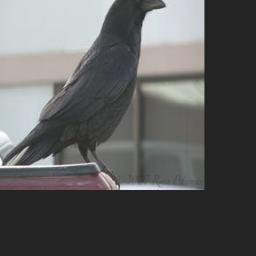Crow: (0, 0, 167, 186)
